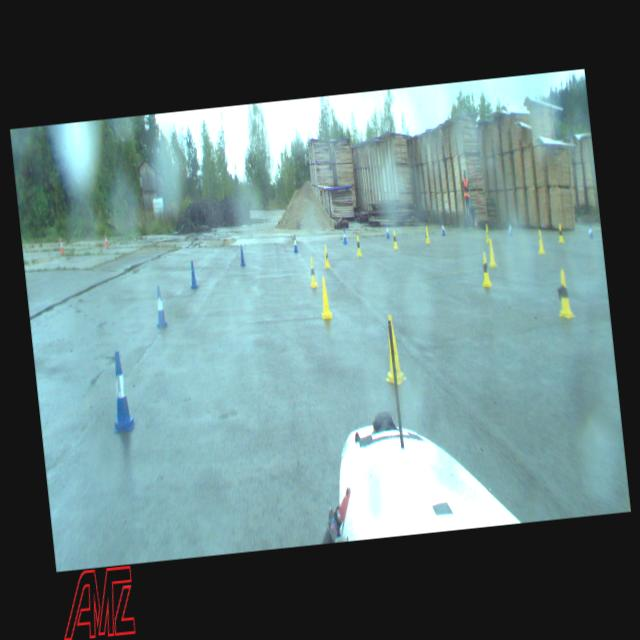blue_cone: (108, 352, 136, 428), (153, 286, 166, 328), (188, 262, 198, 288), (238, 246, 246, 266), (292, 234, 298, 252), (507, 220, 512, 236), (342, 228, 347, 242), (588, 222, 593, 236), (440, 220, 444, 234), (385, 223, 389, 236)
orange_cone: (59, 238, 64, 252), (104, 234, 108, 246)
yellow_cone: (378, 313, 406, 385), (554, 270, 573, 319), (316, 275, 332, 320), (478, 251, 491, 287), (306, 258, 318, 288), (487, 238, 496, 266), (321, 244, 329, 268), (536, 228, 544, 251), (354, 234, 362, 256), (392, 228, 398, 248), (557, 223, 563, 243), (484, 224, 489, 242), (424, 227, 429, 243)
